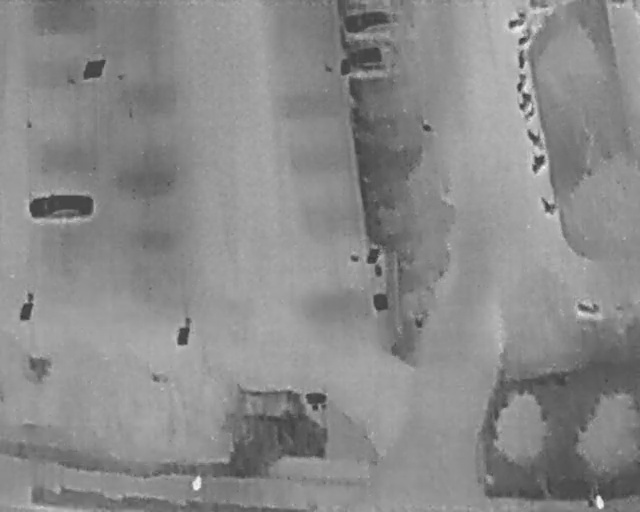Car: (28, 193, 94, 221), (340, 7, 401, 37), (341, 46, 404, 73)
